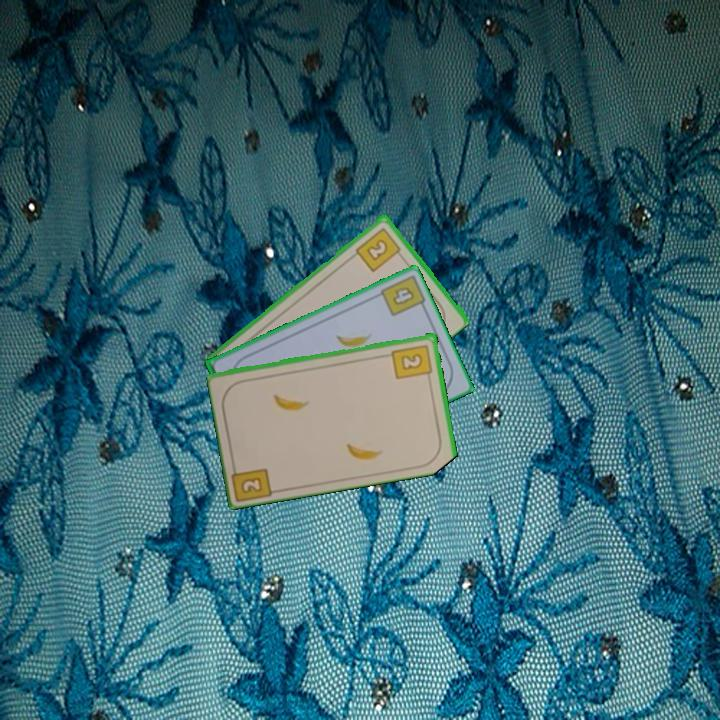2b: (352, 224, 405, 274), (229, 458, 276, 503), (389, 341, 435, 383)
4b: (389, 283, 418, 308)
